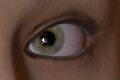eye: (33, 24, 65, 56)
